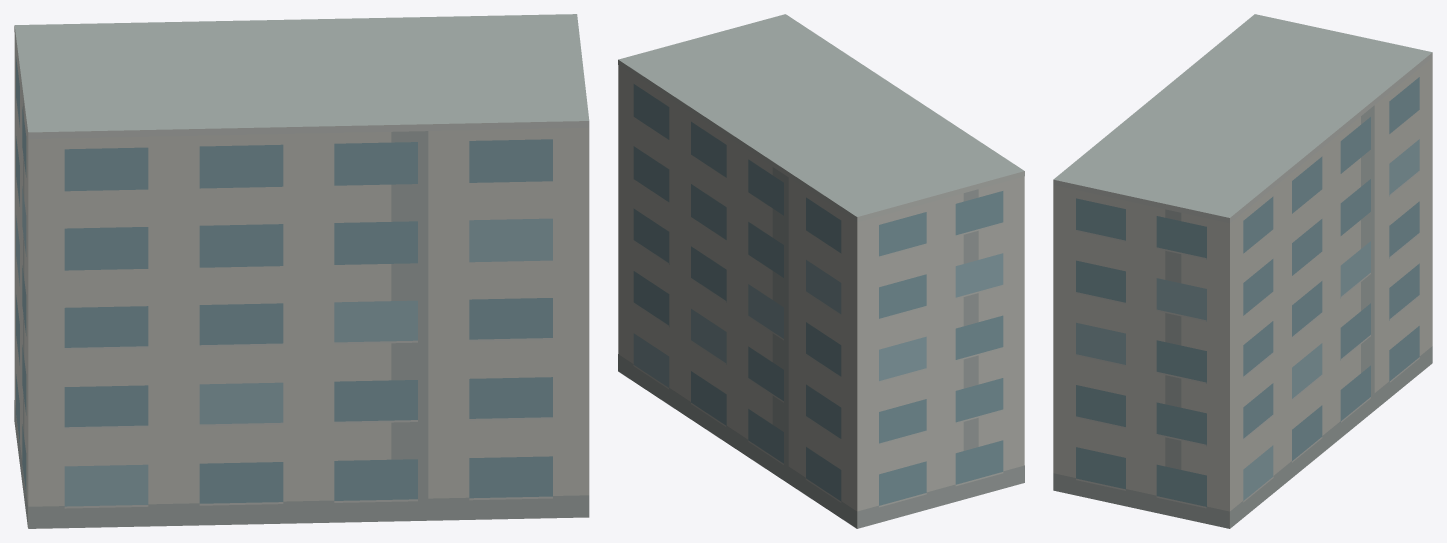
Rendered from survey-upis-32893434.glb.
3 renders of one model, left to right at view 1: azimuth 30°, elevation 25°; view 2: azimuth 150°, elevation 25°; view 3: azimuth 270°, elevation 25°, orthographic. The views are drawn at different scales.
Visible parts, largest first — view 1: survey-upis-32893434.tmp; view 2: survey-upis-32893434.tmp; view 3: survey-upis-32893434.tmp.
Part boxes in pixels (x1,y1,x2,y2): survey-upis-32893434.tmp: [14, 14, 589, 528]; survey-upis-32893434.tmp: [618, 14, 1024, 528]; survey-upis-32893434.tmp: [1053, 14, 1432, 528].
Size of the model in its own units: 19.81 by 14.07 by 15.57.
